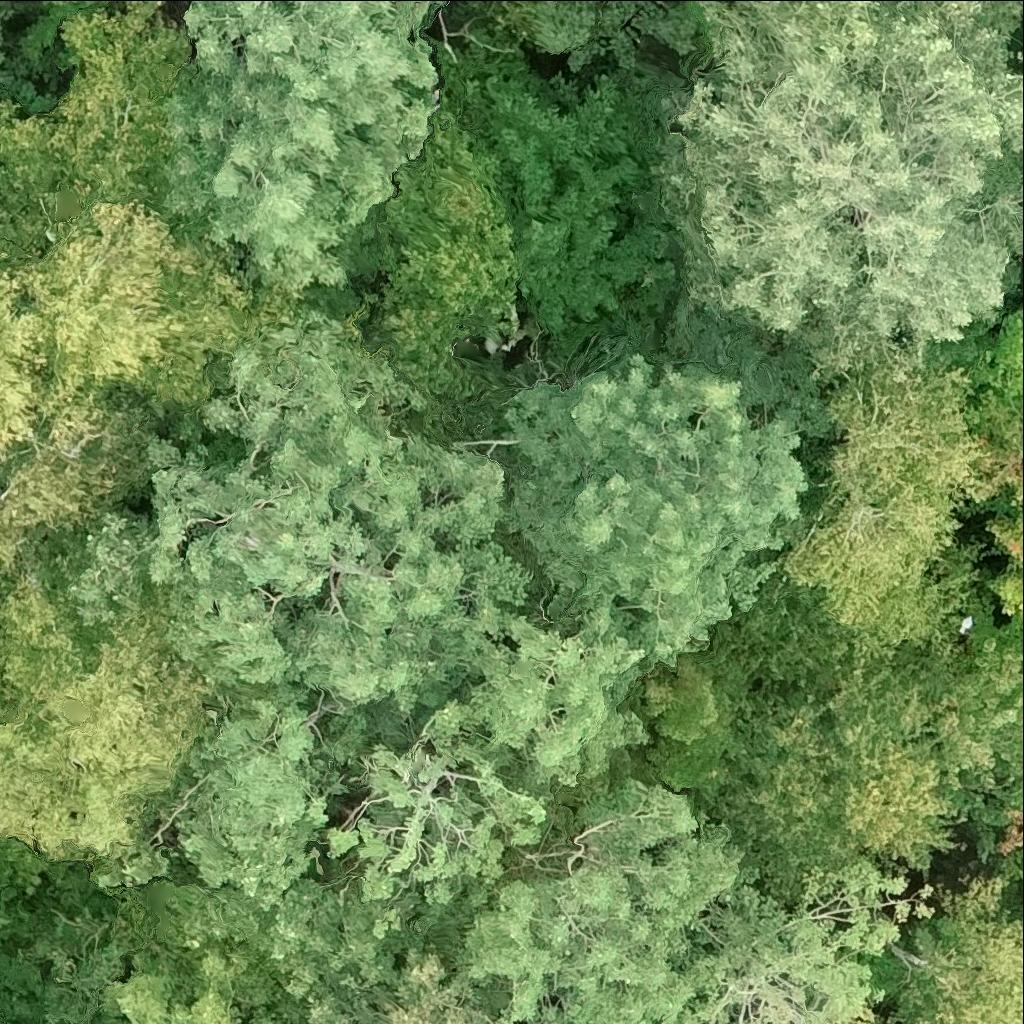crown: (73, 304, 531, 905), (656, 0, 1023, 364), (326, 607, 649, 932), (503, 354, 805, 668), (165, 0, 436, 299), (0, 203, 302, 456), (458, 780, 741, 1023), (784, 326, 986, 664), (0, 580, 209, 862), (0, 0, 212, 264), (185, 869, 515, 1023), (655, 860, 932, 1023), (749, 663, 958, 874), (904, 639, 1023, 831), (647, 628, 773, 801), (91, 935, 310, 1023), (895, 876, 1023, 1023), (471, 0, 700, 69), (0, 430, 111, 572), (959, 307, 1023, 504), (984, 515, 1023, 627), (995, 807, 1023, 859), (423, 0, 447, 26), (515, 1017, 544, 1023), (1019, 50, 1023, 58)
